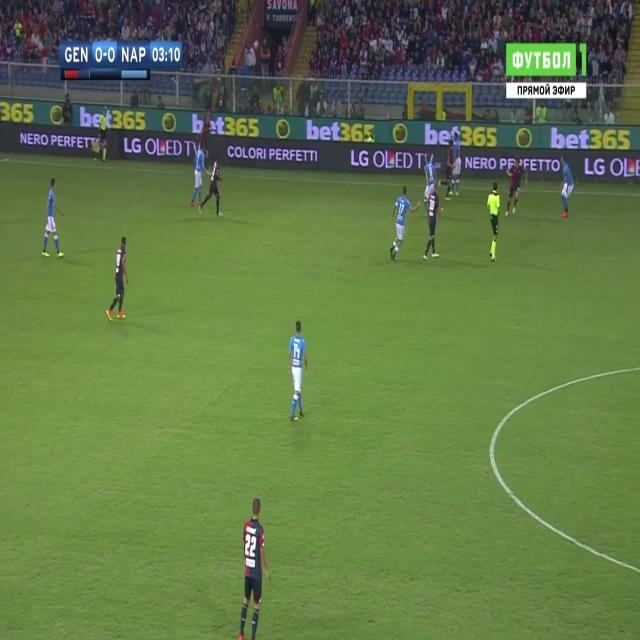Player: (234, 498, 268, 640), (388, 184, 422, 266), (286, 319, 310, 425), (104, 232, 130, 324), (40, 175, 64, 262), (422, 183, 444, 264), (199, 152, 226, 215), (503, 155, 530, 218), (188, 138, 211, 210), (558, 153, 575, 222), (448, 130, 463, 201), (438, 137, 454, 202), (422, 151, 438, 207)
Referee: (485, 180, 503, 268), (94, 101, 110, 166)
